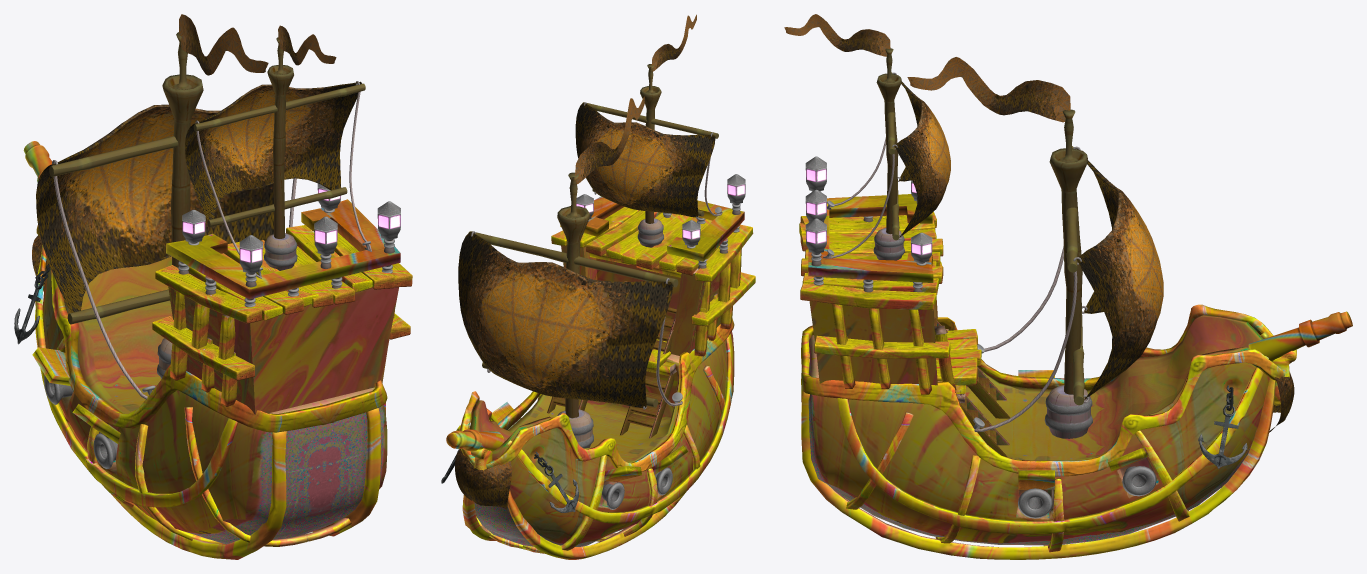
File: Ship_01.fbx
3 renders of one model, left to right at view 1: azimuth 30°, elevation 25°; view 2: azimuth 150°, elevation 25°; view 3: azimuth 270°, elevation 25°, orthographic. The views are drawn at different scales.
Parts seen in each view (by area): view 1: PirateShip_01; view 2: PirateShip_01; view 3: PirateShip_01.
Boxes of the visible parts, bbox=[...] form: PirateShip_01: bbox=[14, 14, 412, 559]; PirateShip_01: bbox=[441, 14, 755, 559]; PirateShip_01: bbox=[784, 14, 1352, 559].
Size of the model in its own units: 316 by 645 by 636.
